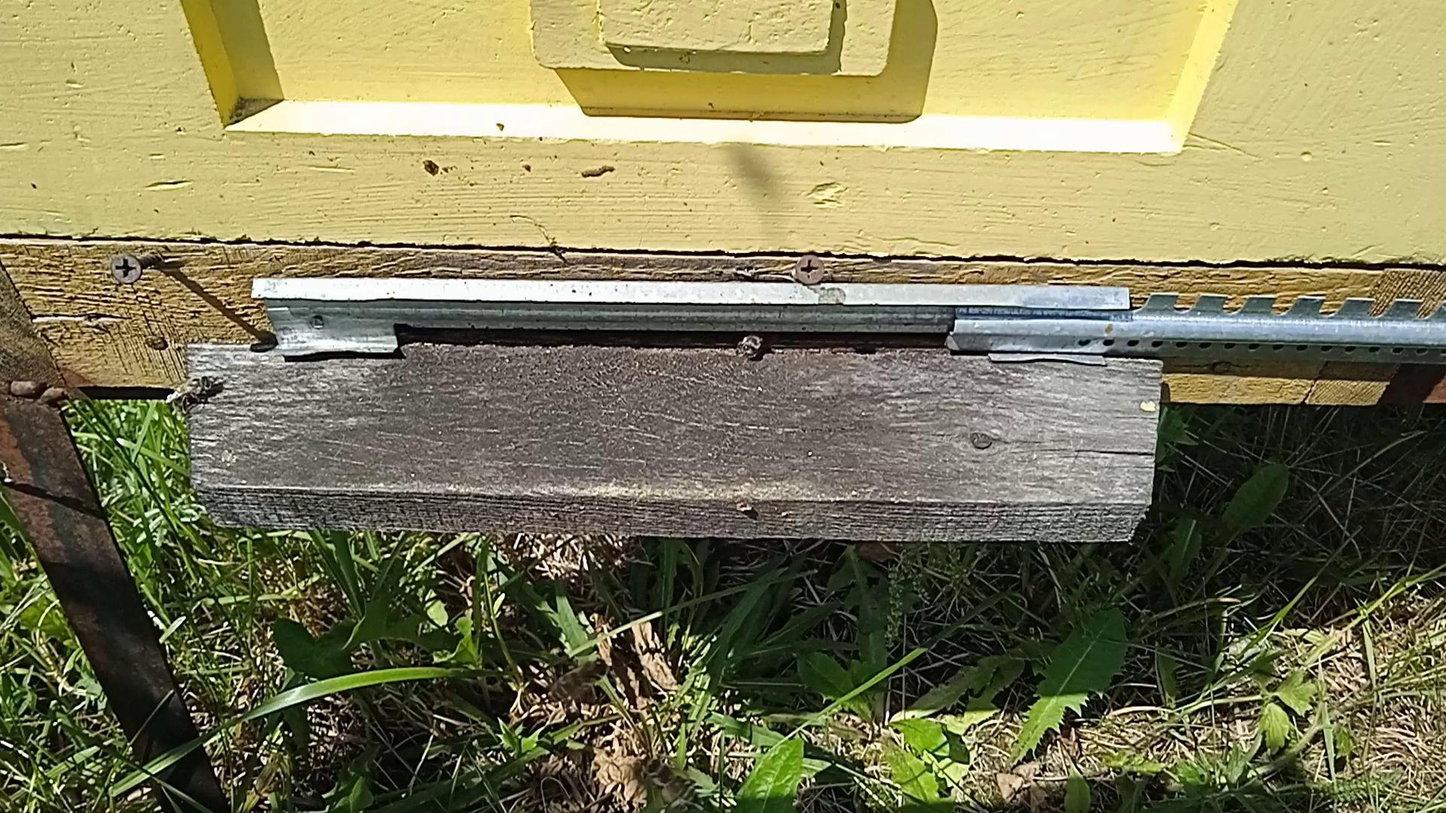worker-bee: (642, 754, 702, 811), (549, 659, 612, 702), (169, 375, 220, 413), (736, 330, 767, 358)
